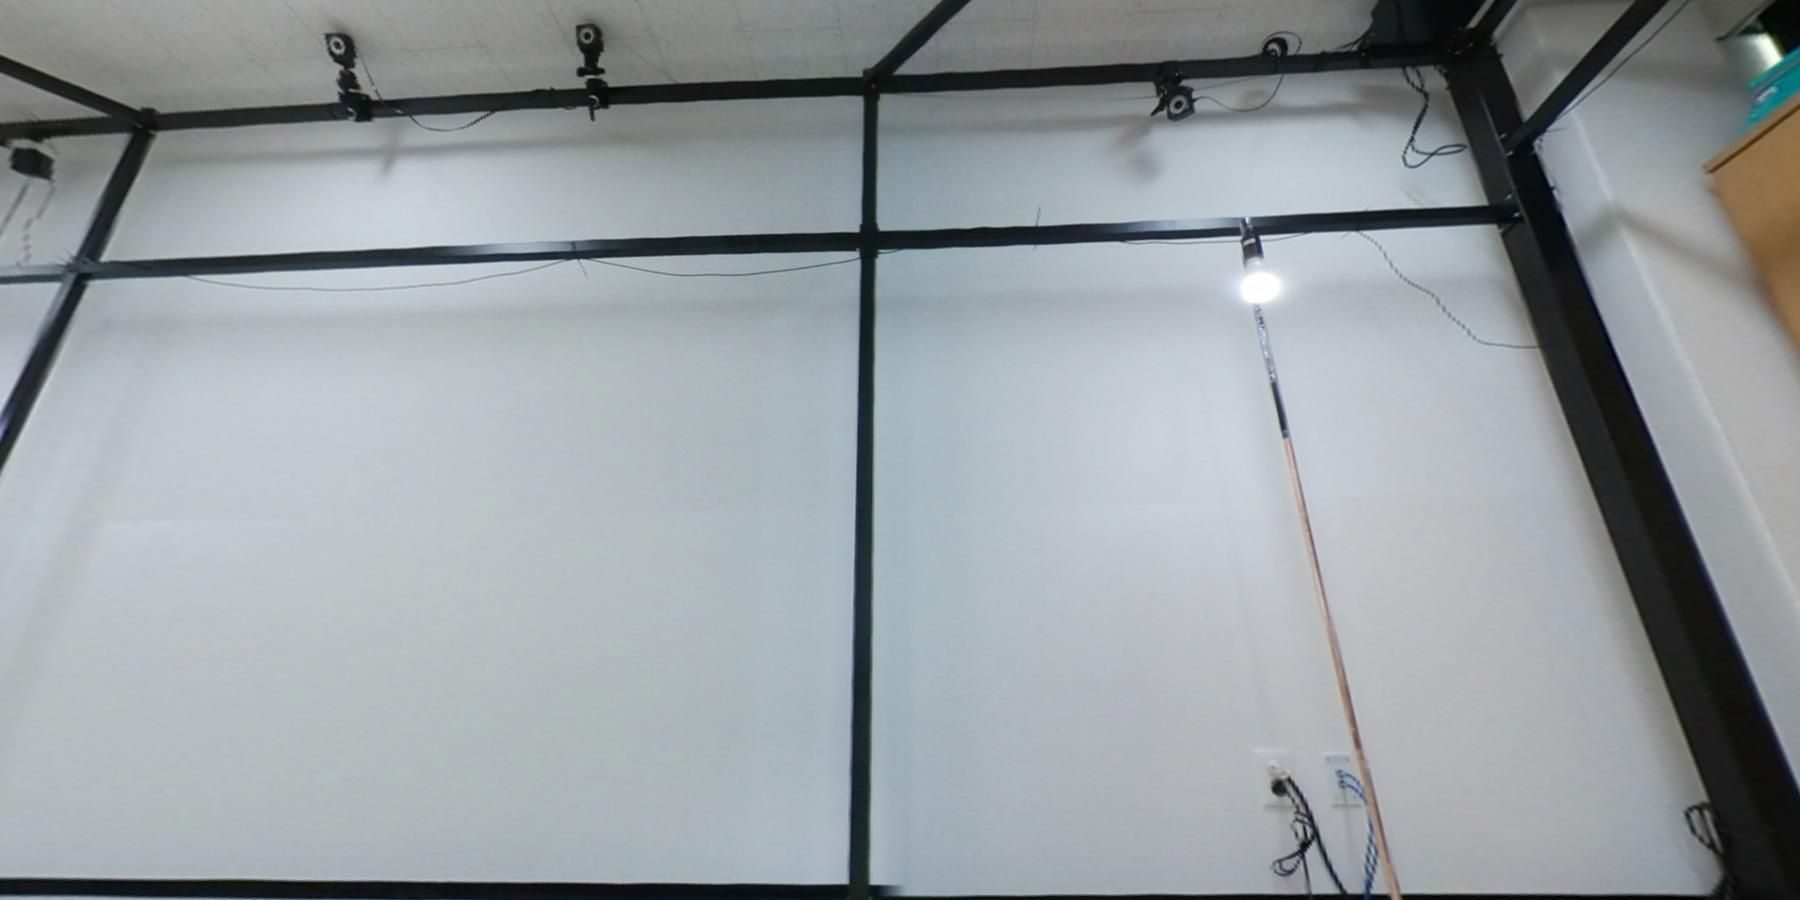PointLight1: (1236, 218, 1282, 304)
